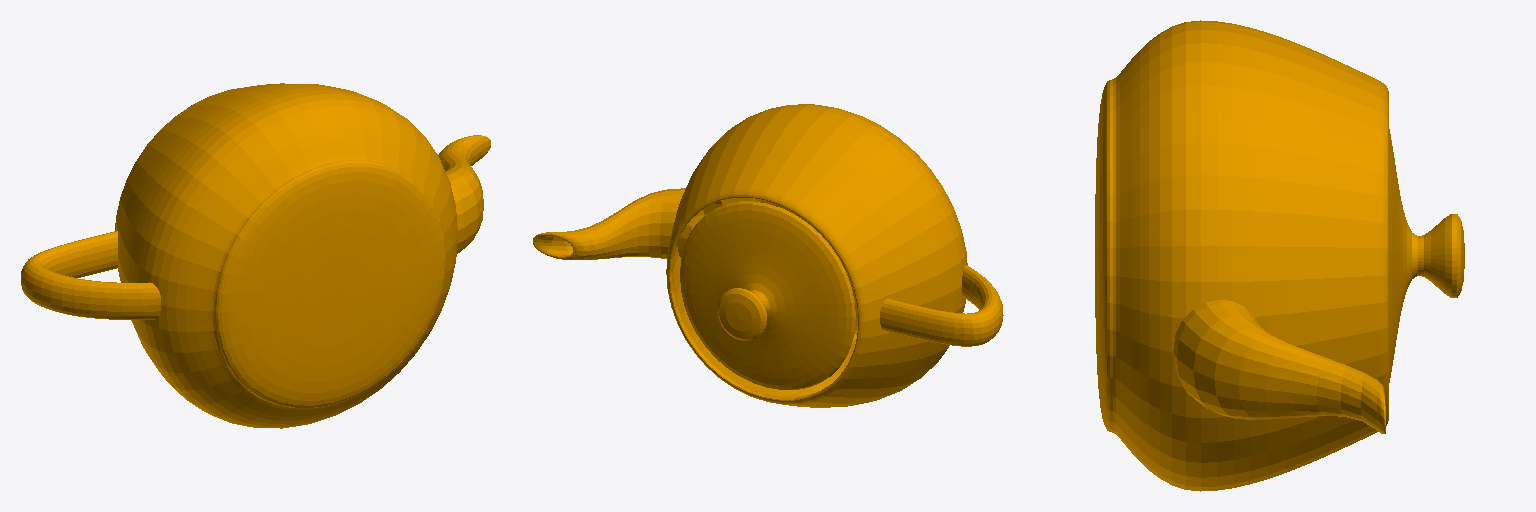
URDF robot description (teapot):
<?xml version='1.0'?>

<robot name="teapot">
    <static>false</static>
    <link name="link">
        <inertial>
            <mass value="0.1000721657845513"/>
            <inertia ixx="4.6077783999726894e-05" ixy="3.16005118213017e-07" ixz="3.3181458711348366e-10"
                     iyy="6.922168700498709e-05" iyz="4.180396306875361e-11" izz="5.5095781200786195e-05"/>
        </inertial>
        <collision name="collision">
            <geometry>
                <mesh filename="package://miscnet/train/teapot/collision_model_vhacd.obj"/>
            </geometry>
        </collision>
        <visual name="visual">
            <geometry>
                <mesh filename="package://miscnet/train/teapot/visual_model.obj"/>
            </geometry>
        </visual>
    </link>
</robot>

--- What the picture shows (computed from the rendered views, not written in the file) ---
Views: 3 orthographic renders of the robot side by side, from view 1: azimuth 30°, elevation 25°; view 2: azimuth 150°, elevation 25°; view 3: azimuth 270°, elevation 25°.
Robot: teapot — 1 links, 0 joints (none); root link link; default pose: all joints at 0.
Visible links, largest first — view 1: link; view 2: link; view 3: link.
Boxes of the visible links, x1,y1,x2,y2 form: link: (21,83,490,428); link: (533,104,1003,407); link: (1095,20,1464,491).
Bounding box of the posed robot: 0.1287 × 0.063 × 0.08 m (x, y, z).
1 mesh visuals loaded from 1 distinct referenced files (1 OBJ).
